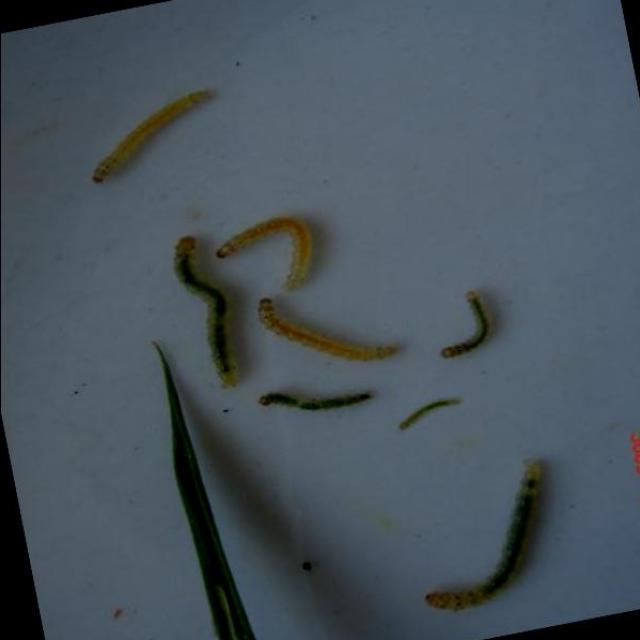leaf folder: (425, 461, 540, 610), (91, 89, 210, 181), (173, 237, 236, 384), (258, 299, 396, 360), (215, 216, 312, 290), (440, 291, 490, 358), (258, 393, 369, 410), (398, 397, 459, 427)
